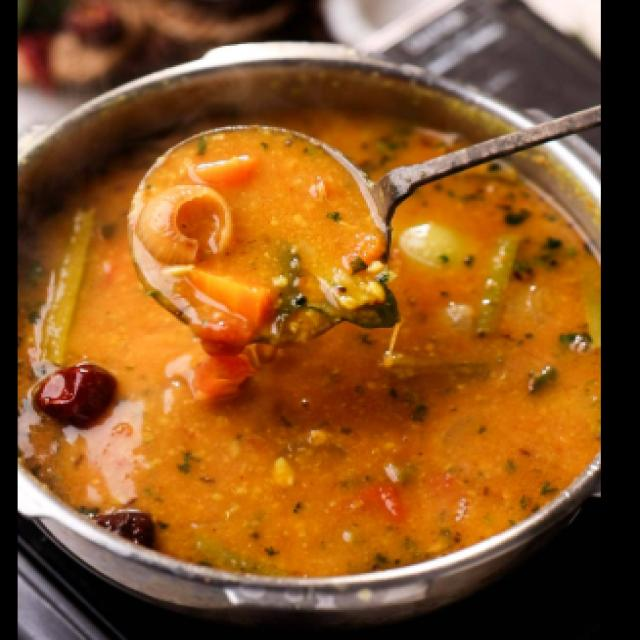sambar: (56, 49, 583, 594)
